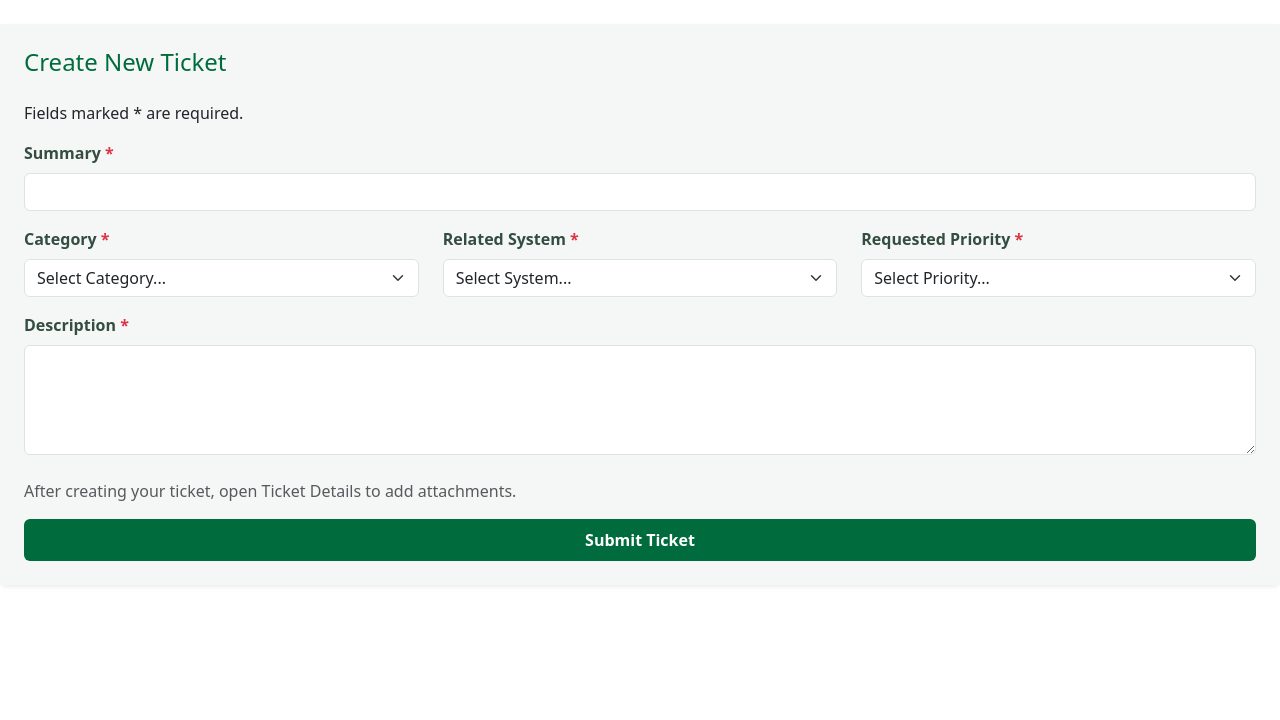
it: CreateTicket Component › SEC-08: safe feedback and recoverable input after 401/UNAUTHENTICATED
Type "Keep my summary" into the field labelled "Summary *" at (640, 192), box [24, 173, 1256, 211]
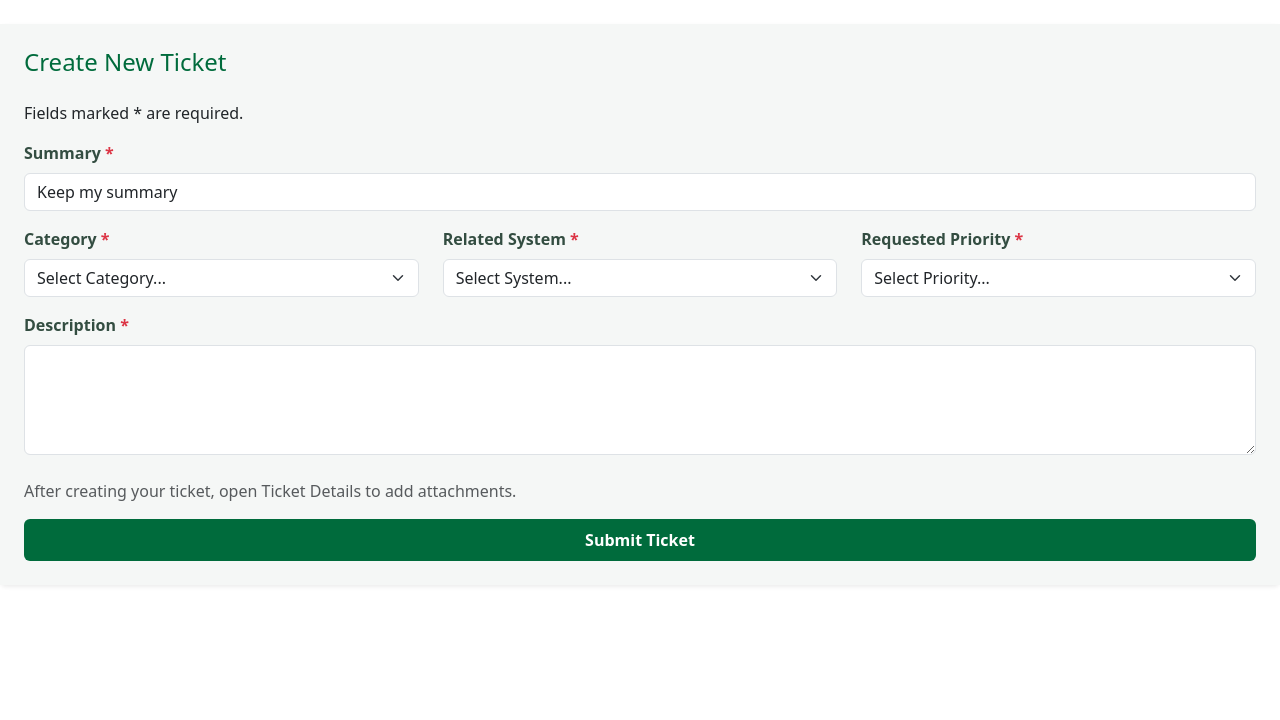
Type "Keep my description" into the text box labelled "Description *" at (640, 400), box [24, 345, 1256, 455]
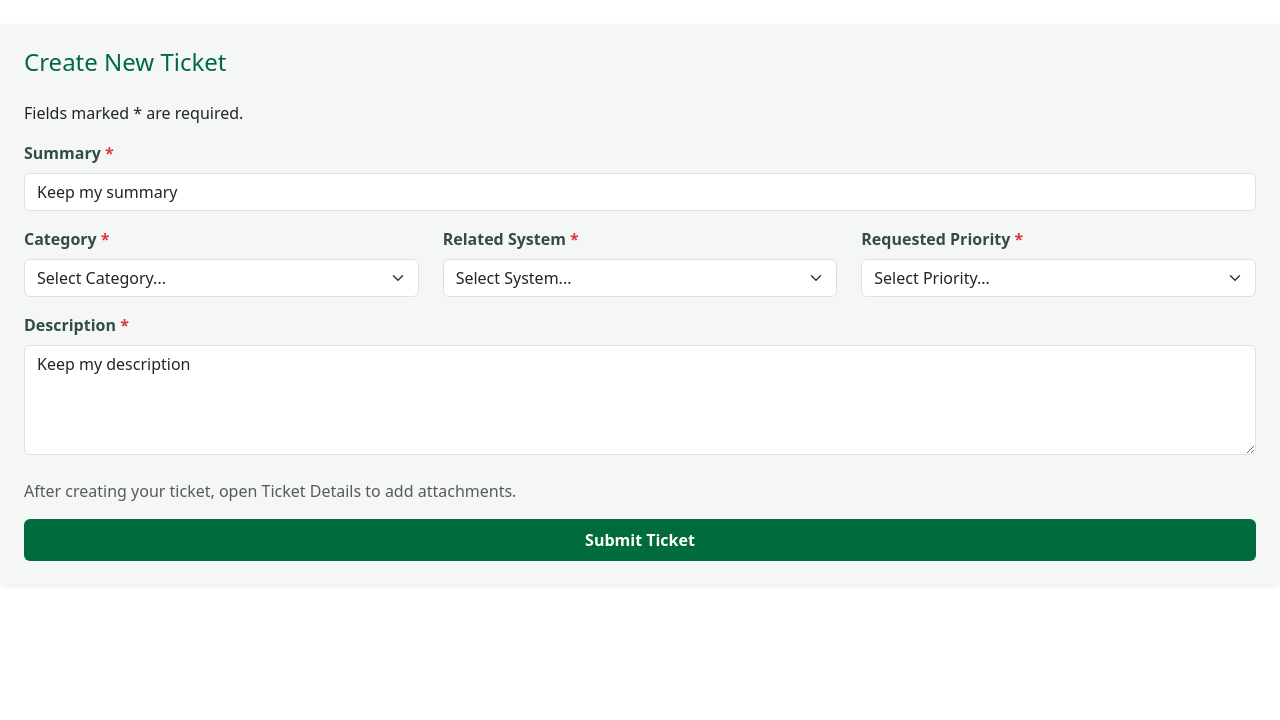
Select "Hardware" in the dropdown labelled "Category *" at (221, 278), box [24, 259, 419, 297]
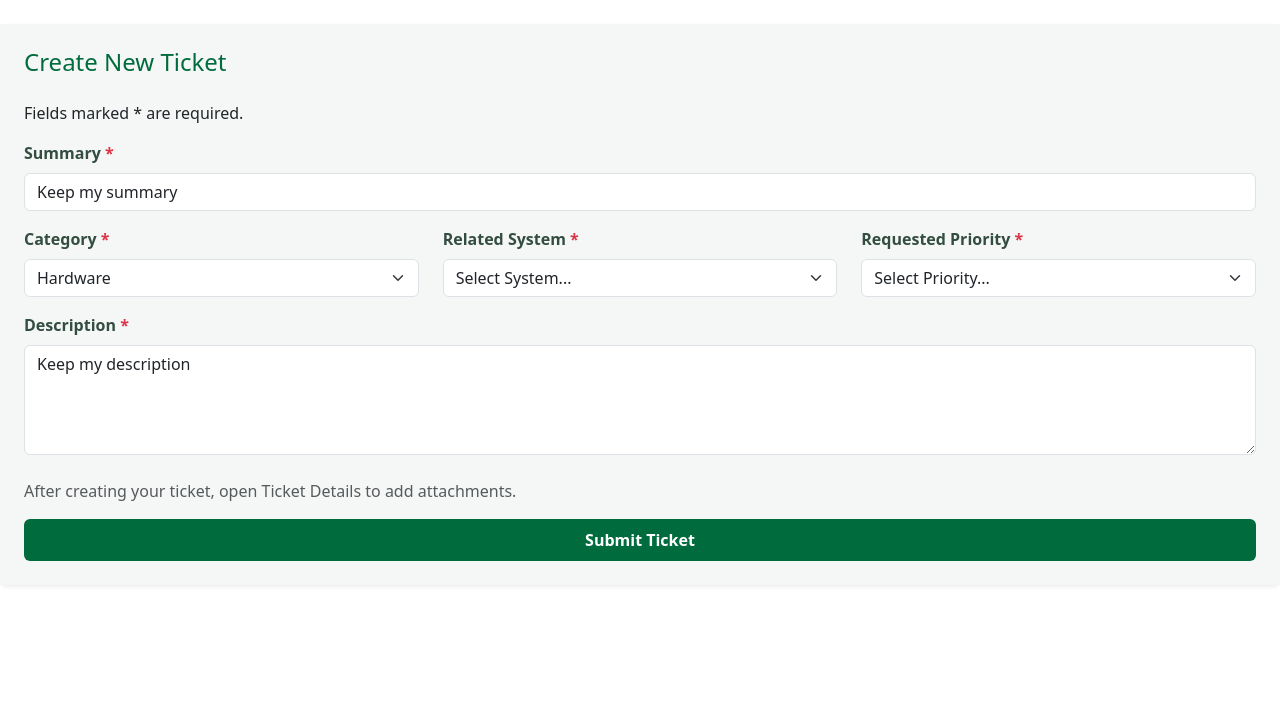
Select "Corporate Laptop" in the dropdown labelled "Related System *" at (640, 278), box [443, 259, 837, 297]
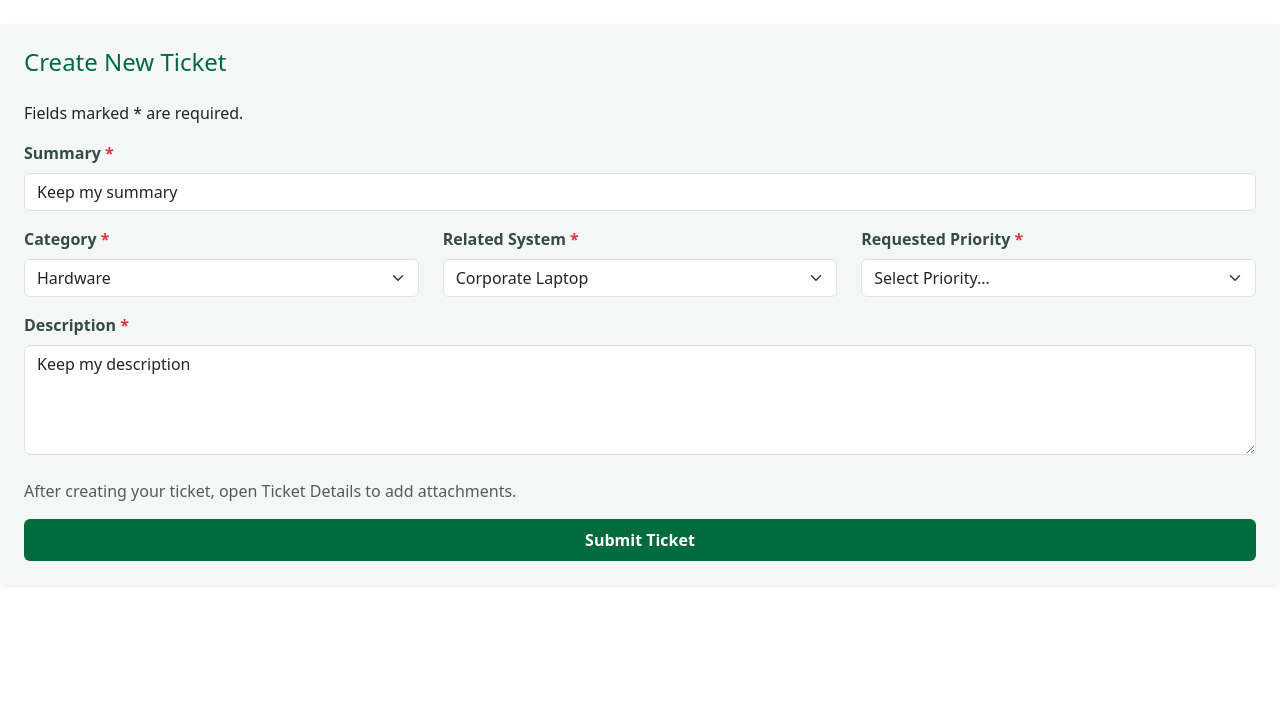
Select "High" in the dropdown labelled "Requested Priority *" at (1059, 278), box [861, 259, 1256, 297]
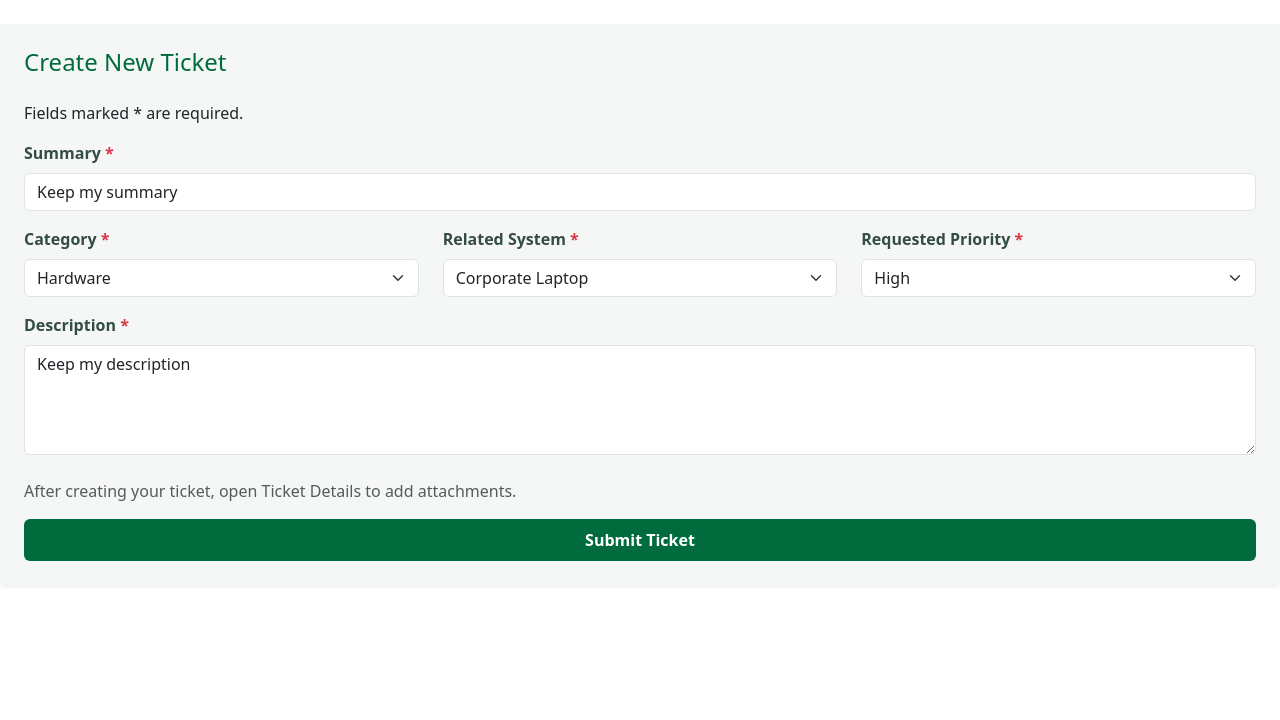
Click the button "Submit Ticket" at (640, 540), box [24, 519, 1256, 561]
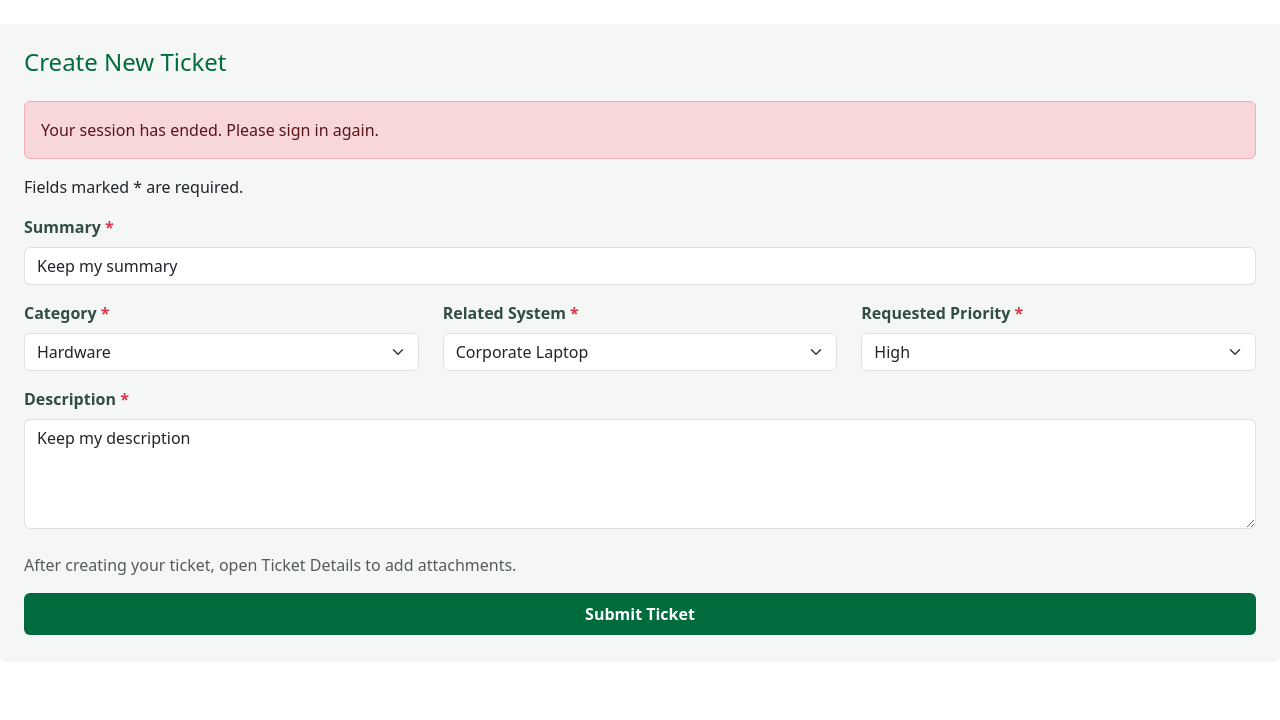
Expected: the button "Submit Ticket" is enabled, [24, 593, 1256, 635]
Expected: the text "Your session has ended. Please sign in again." is shown, [24, 101, 1256, 159]
